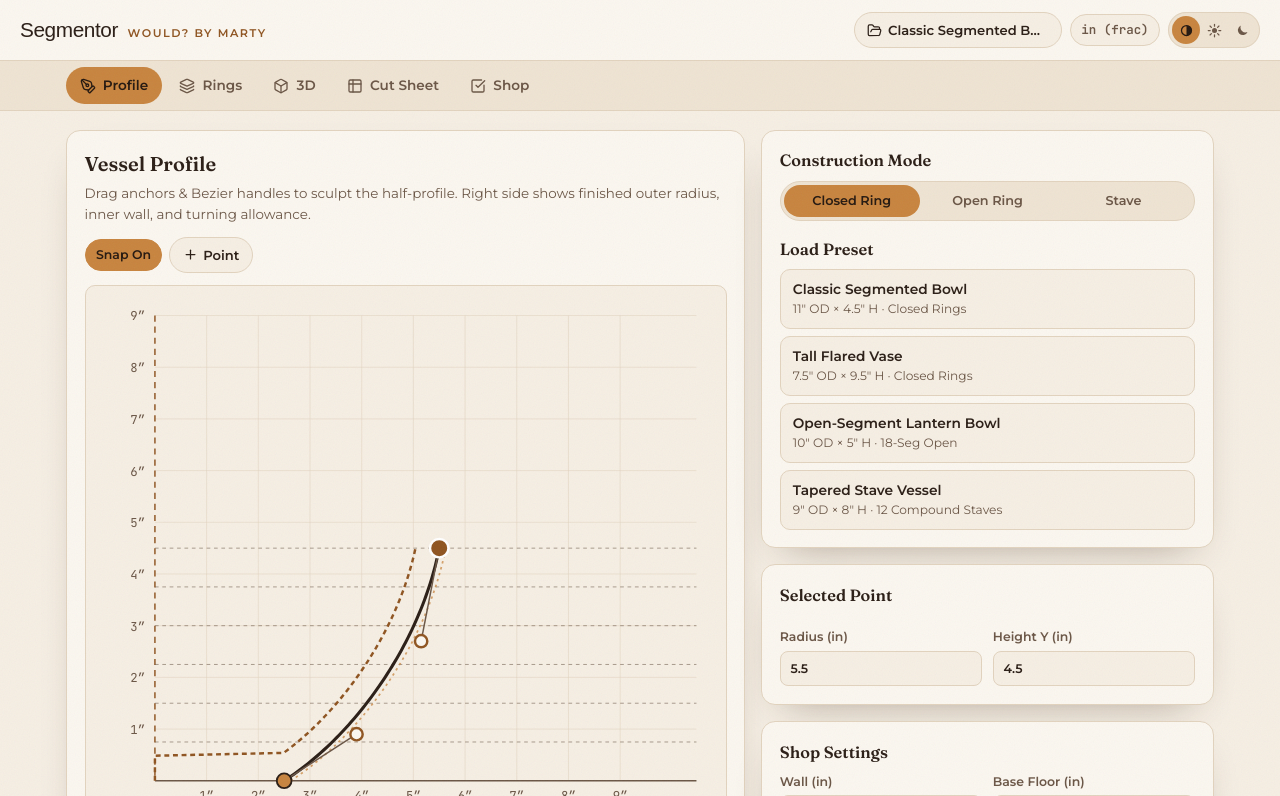
Scenario: App navigation & views › loads the Tapered Stave Vessel preset and updates tabs/cut-sheet to Stave mode
Click the text "Tapered Stave Vessel": (867, 490) [793,480,942,501]
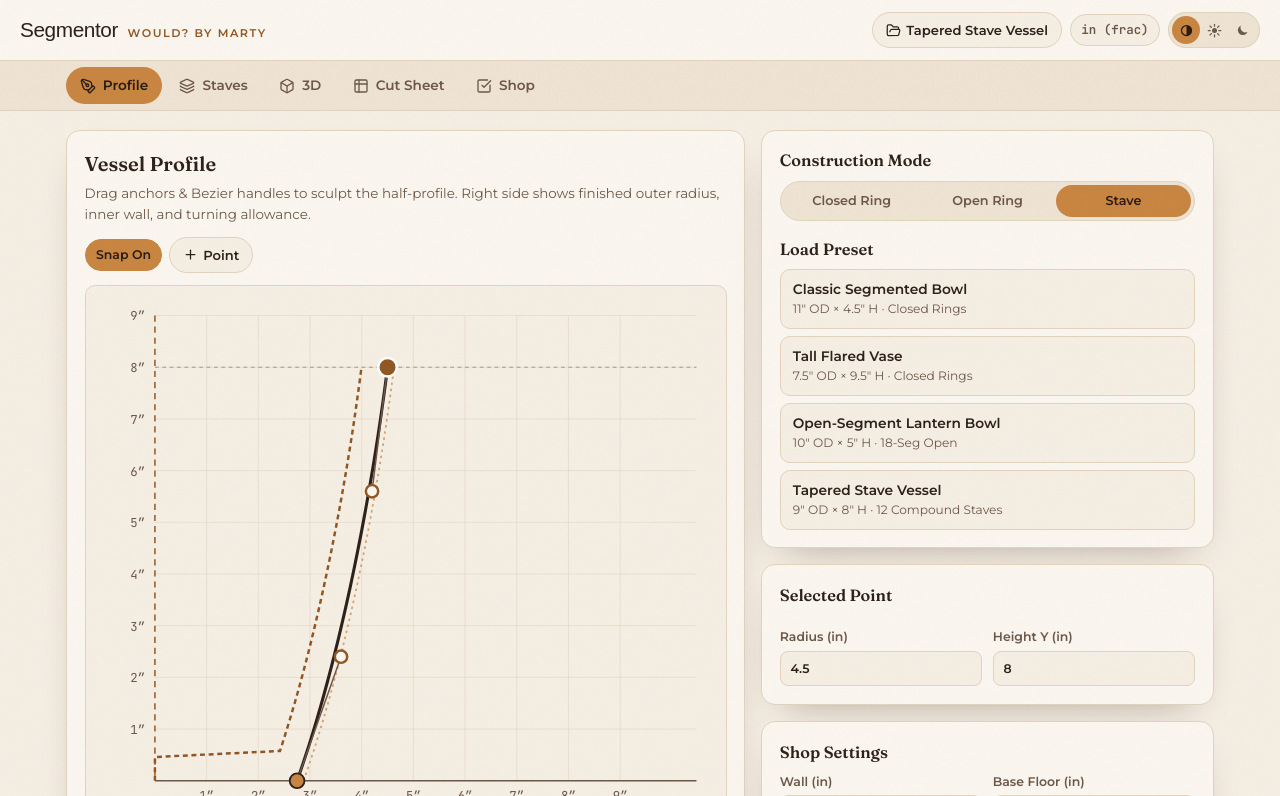
Check: the button "Staves" is shown, box [166,67,262,104]
Click the button "Cut Sheet": (399, 86) [339,67,458,104]
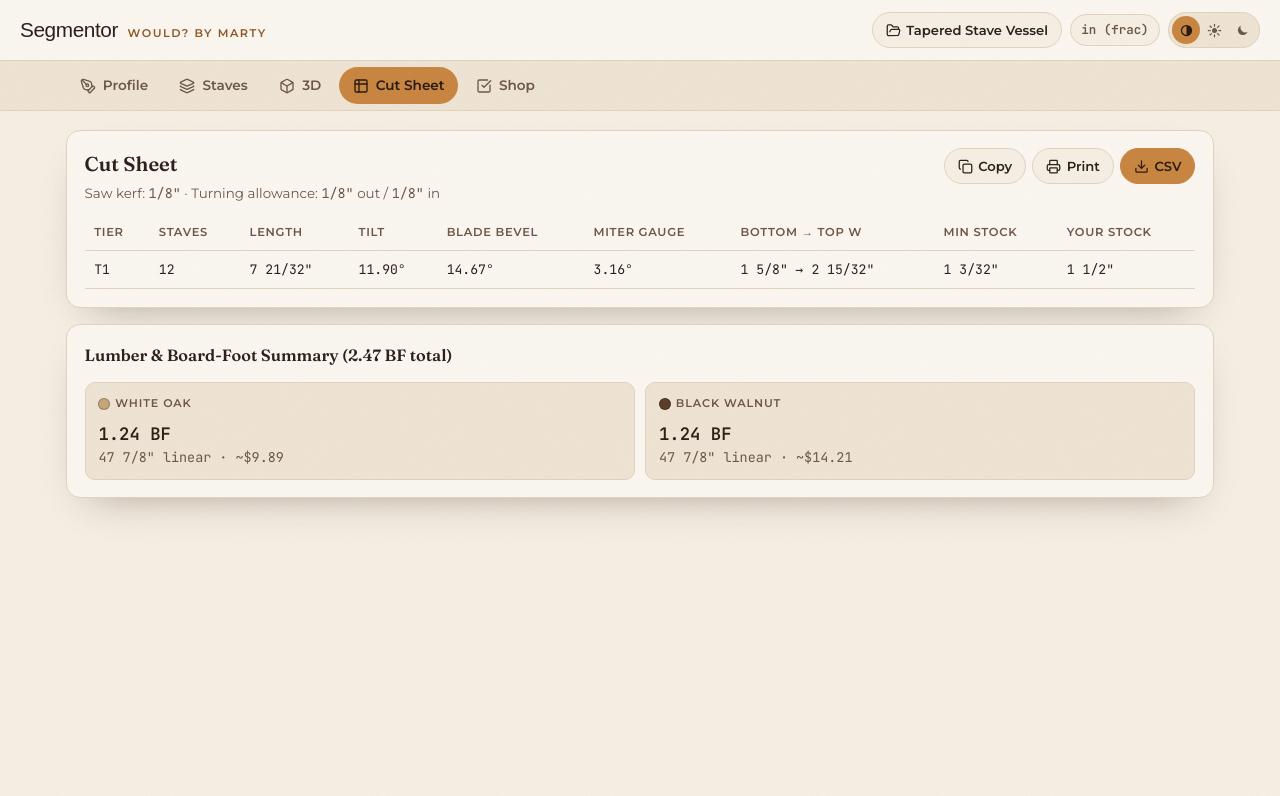
Check: the column heading "Blade Bevel" is shown, box [437,216,584,251]
Check: the column heading "Miter Gauge" is shown, box [584,216,731,251]
